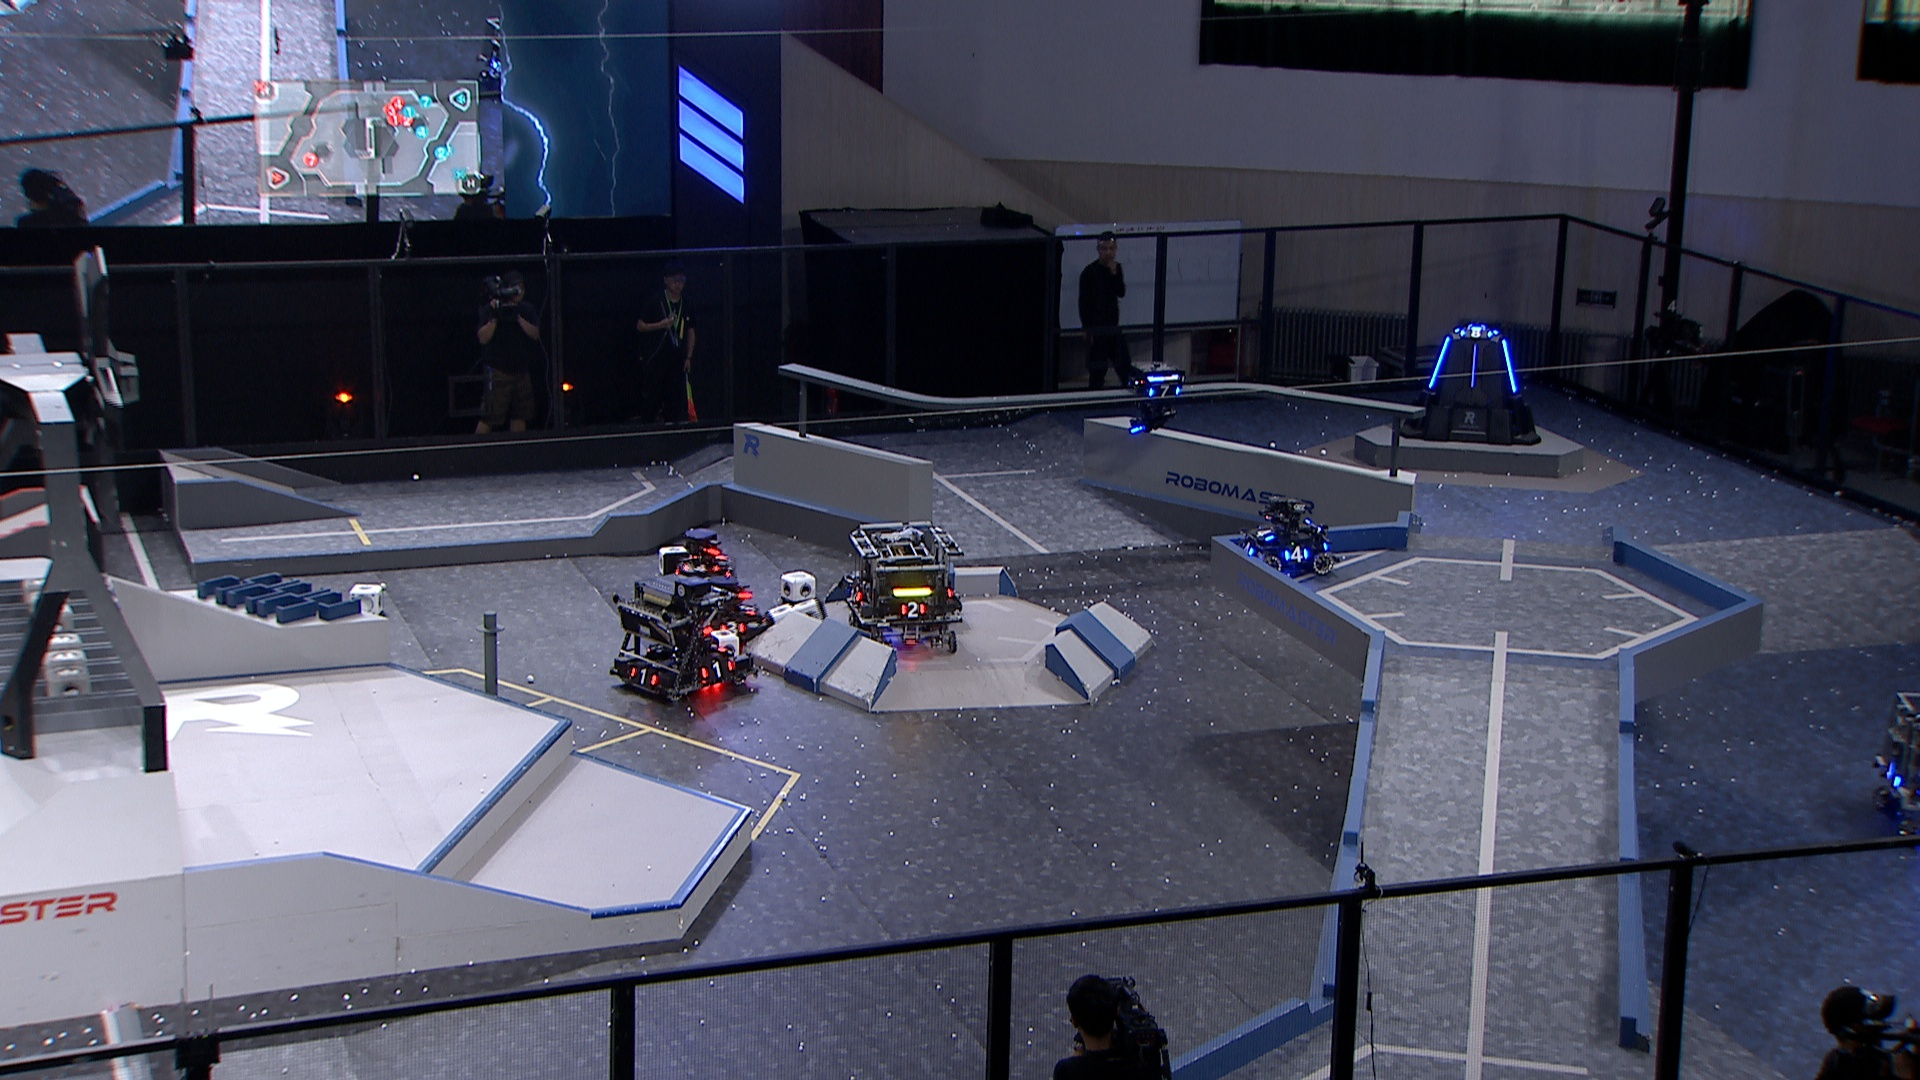armor: (1427, 334, 1452, 394), (1501, 334, 1519, 396), (699, 655, 738, 683), (628, 665, 659, 688), (1143, 382, 1183, 401), (1280, 542, 1309, 564), (1468, 343, 1481, 392), (1458, 324, 1493, 342), (899, 597, 927, 618), (680, 560, 719, 575), (1253, 524, 1276, 545), (1883, 764, 1902, 790), (716, 621, 746, 637), (740, 600, 760, 617), (849, 585, 865, 605), (1240, 541, 1255, 559)
base: (1396, 324, 1543, 448)
car: (608, 572, 760, 707), (841, 520, 965, 655), (1233, 491, 1338, 578), (1871, 688, 1920, 841), (688, 576, 773, 644), (667, 527, 742, 597)
ignore: (473, 15, 505, 83)
watcher: (1125, 360, 1185, 436)
